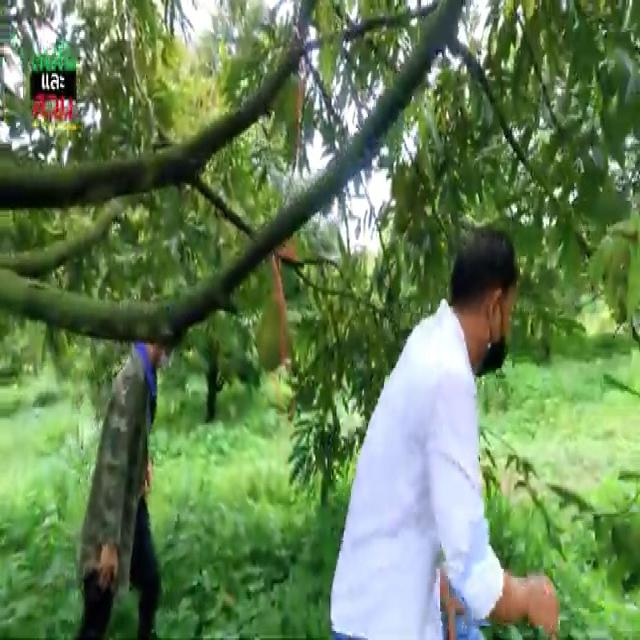durian: (252, 299, 293, 376)
